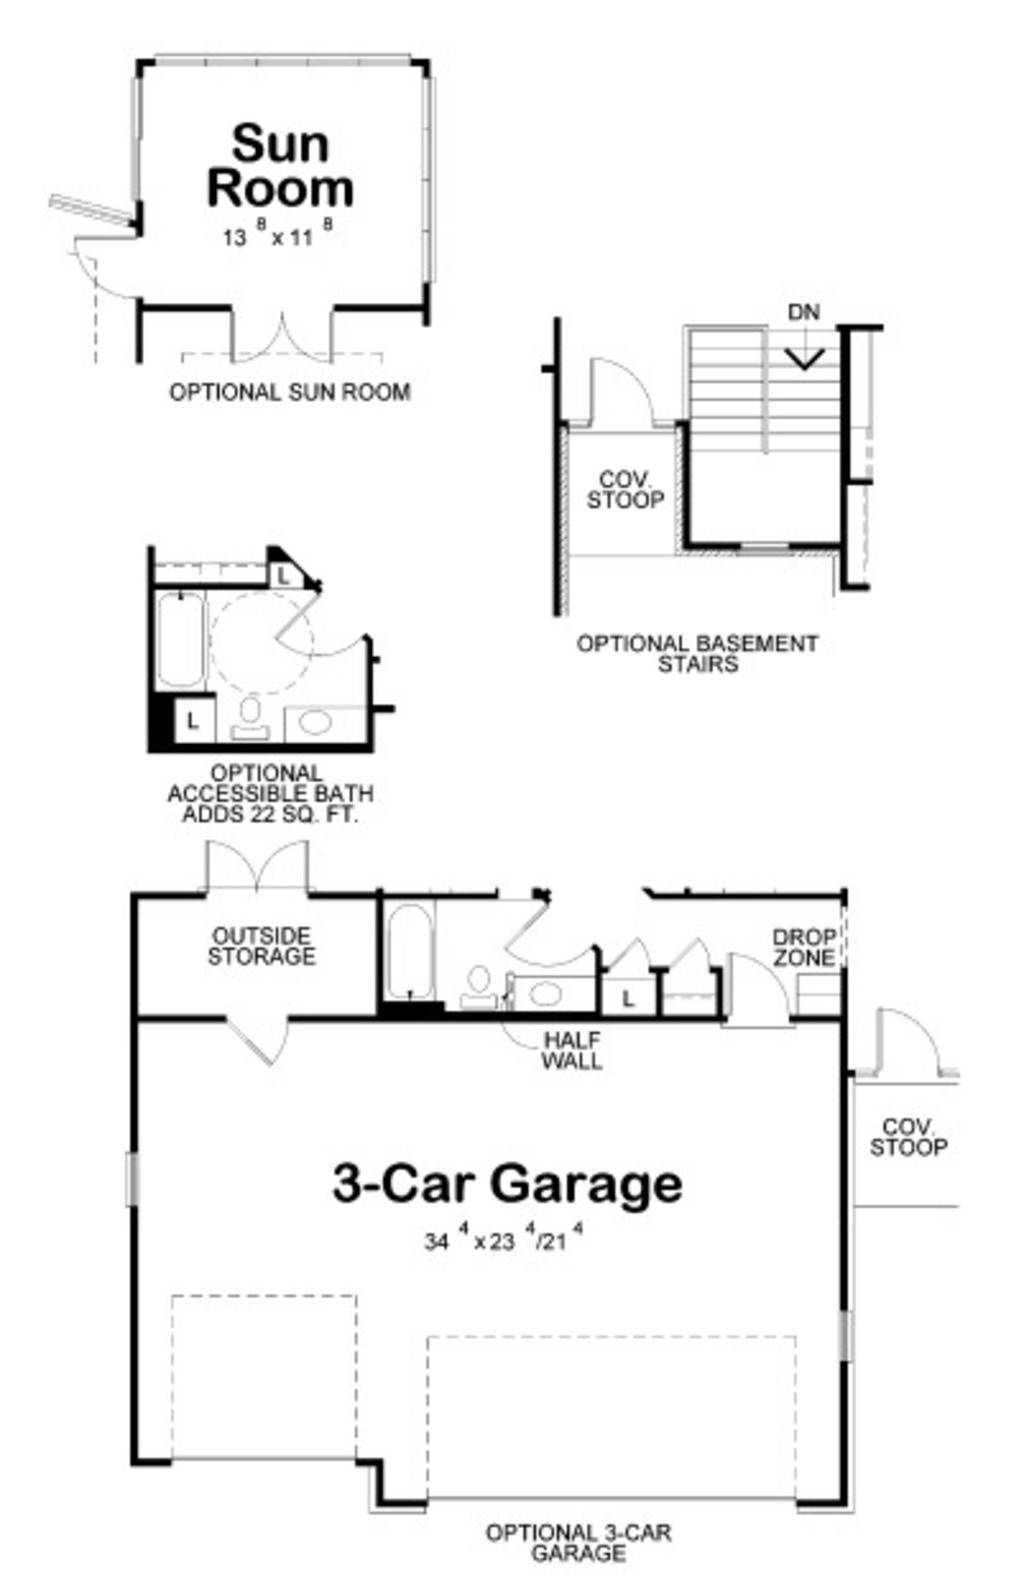door: (214, 288, 377, 377), (179, 824, 334, 912), (852, 982, 954, 1082), (574, 347, 677, 442), (64, 225, 152, 329), (721, 949, 802, 1029), (277, 587, 364, 660), (507, 897, 586, 967), (222, 1002, 304, 1067), (662, 924, 719, 984), (592, 934, 657, 974)
large_sink: (209, 674, 289, 758), (445, 954, 517, 1024)
small_sink: (273, 687, 372, 751), (527, 967, 602, 1017)
stairs: (687, 322, 844, 512)
tub: (379, 888, 439, 1004), (152, 584, 209, 694)
window: (127, 72, 159, 222), (157, 47, 412, 64), (824, 1299, 872, 1374), (118, 1137, 152, 1230), (742, 529, 804, 567), (427, 72, 434, 288)
